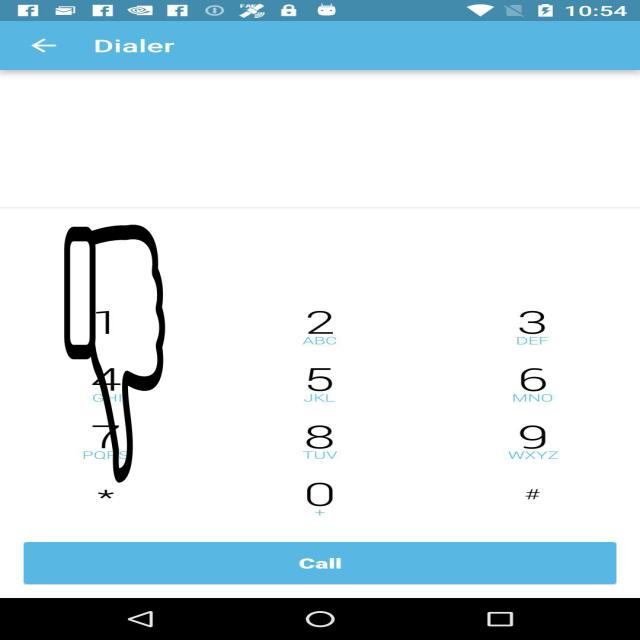obstruction: (63, 225, 166, 482)
